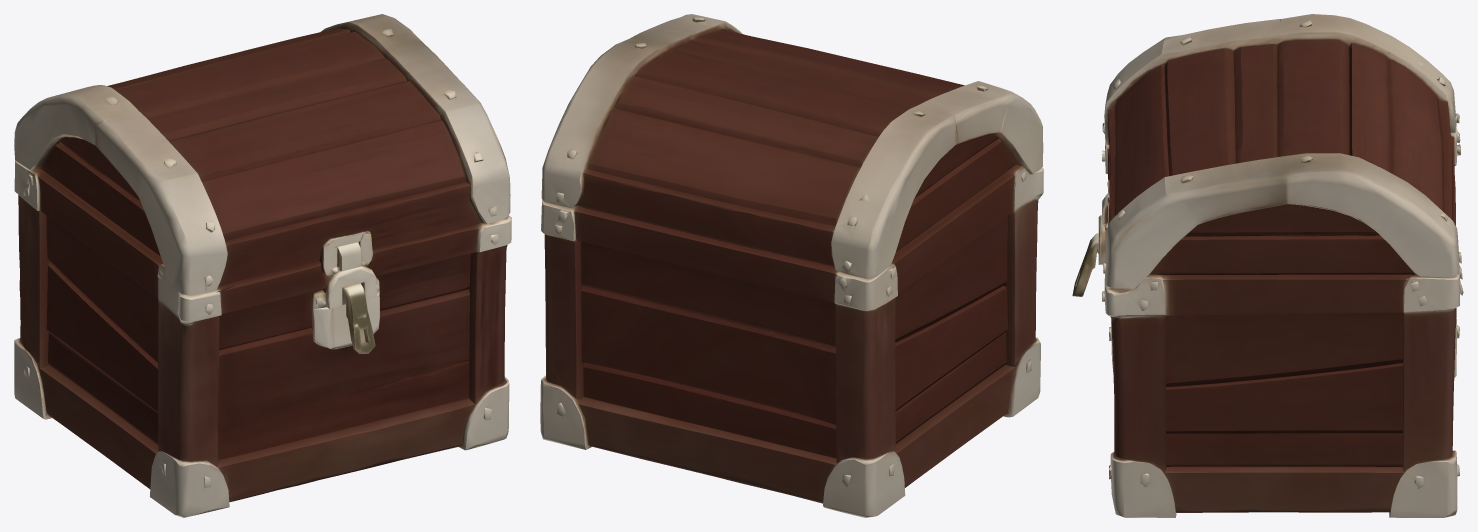
Rendered from chest.glb.
3 views of the same model, side by side, from view 1: azimuth 30°, elevation 25°; view 2: azimuth 150°, elevation 25°; view 3: azimuth 270°, elevation 25° (orthographic).
Parts seen in each view (by area): view 1: model.018; view 2: model.018; view 3: model.018.
Boxes of the visible parts, bbox=[...] form: model.018: bbox=[14, 14, 511, 517]; model.018: bbox=[540, 14, 1043, 517]; model.018: bbox=[1072, 14, 1463, 517].
Bounding box in the file's own units: 1.92 × 1.88 × 1.91.
Materials: 1 (1 with a texture image).
